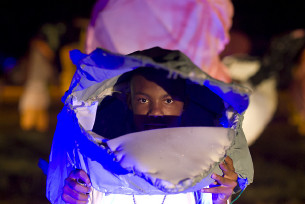face: (131, 81, 186, 127)
